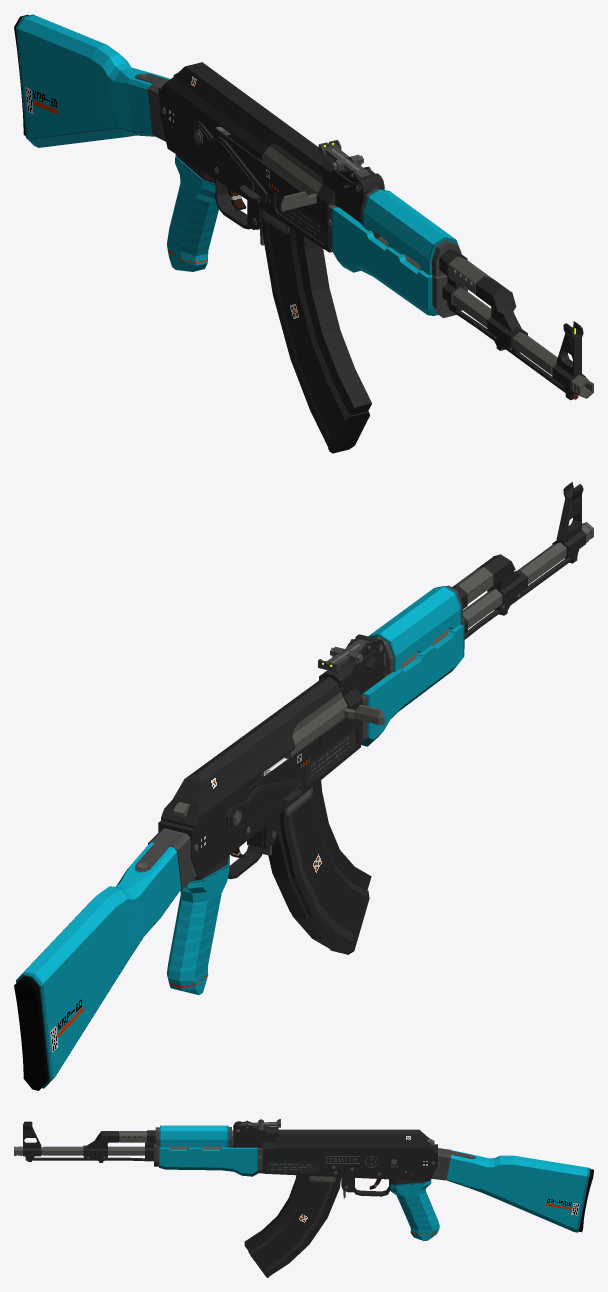
The model's file is kmp60.glb.
The picture shows the model from 3 angles, top to bottom: view 1: azimuth 30°, elevation 25°; view 2: azimuth 150°, elevation 25°; view 3: azimuth 270°, elevation 25°; orthographic projection. The views are drawn at different scales.
Parts seen in each view (by area): view 1: Stock, Furniture, Magazine, Receiver, Dustcover, BarrelSupport, Barrels, ChargingHandle, FireSelect, FrontIrons, BackIrons; view 2: Stock, Furniture, Magazine, Receiver, Dustcover, Barrels, BarrelSupport, ChargingHandle, FireSelect, FrontIrons, BackIrons; view 3: Stock, Furniture, Receiver, Magazine, Dustcover, Barrels, BarrelSupport, FrontIrons, BackIrons.
Boxes of the visible parts, <box> form: Stock: <box>14,14,170,147</box>; Furniture: <box>167,154,461,317</box>; Magazine: <box>261,209,371,453</box>; Receiver: <box>158,87,384,252</box>; Dustcover: <box>161,62,330,177</box>; BarrelSupport: <box>439,249,578,399</box>; Barrels: <box>377,236,593,398</box>; ChargingHandle: <box>262,144,322,211</box>; FireSelect: <box>192,120,267,201</box>; FrontIrons: <box>552,321,585,400</box>; BackIrons: <box>318,140,371,177</box>; Stock: <box>14,828,196,1090</box>; Furniture: <box>167,585,464,994</box>; Magazine: <box>260,757,371,954</box>; Receiver: <box>158,634,388,880</box>; Dustcover: <box>161,677,343,832</box>; Barrels: <box>384,522,593,669</box>; BarrelSupport: <box>450,554,577,639</box>; ChargingHandle: <box>284,692,384,758</box>; FireSelect: <box>226,778,302,831</box>; FrontIrons: <box>552,482,585,563</box>; BackIrons: <box>318,639,370,672</box>; Stock: <box>431,1148,593,1232</box>; Furniture: <box>154,1125,439,1240</box>; Receiver: <box>229,1120,437,1196</box>; Magazine: <box>244,1175,341,1277</box>; Dustcover: <box>275,1129,434,1154</box>; Barrels: <box>14,1130,233,1155</box>; BarrelSupport: <box>25,1130,159,1162</box>; FrontIrons: <box>23,1121,41,1161</box>; BackIrons: <box>241,1119,281,1130</box>.
Bounding box in the file's own units: 0.0617 × 0.2497 × 0.8493.
2 materials, 1 textured.
